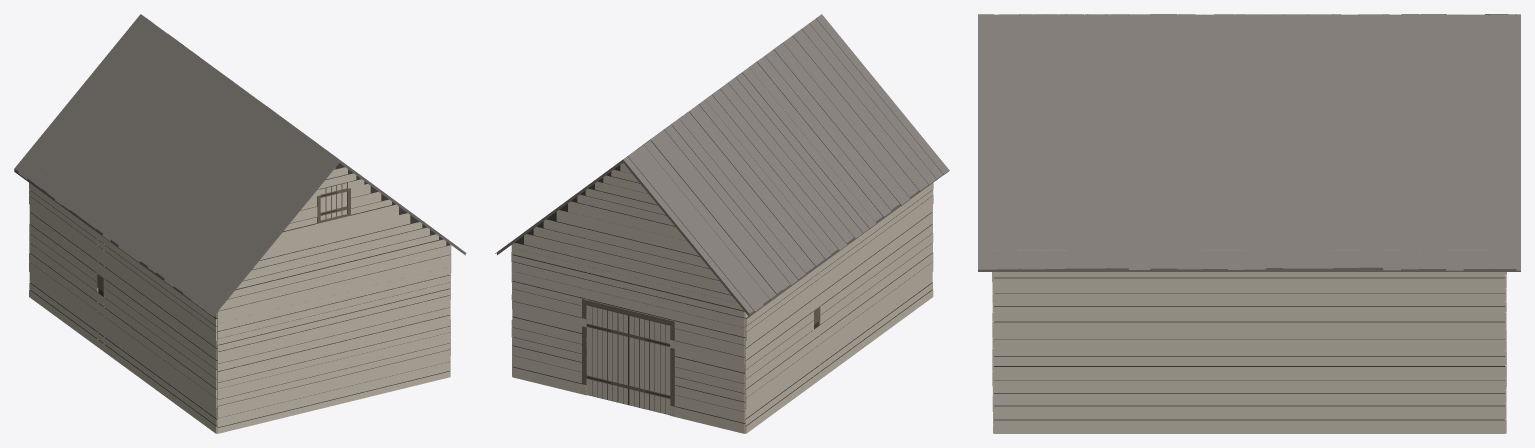
Rendered from recon_1835_north_a2_048__inferred_1835.glb.
The picture shows the model from 3 angles, left to right: view 1: azimuth 30°, elevation 25°; view 2: azimuth 150°, elevation 25°; view 3: azimuth 270°, elevation 25°; orthographic projection. The views are drawn at different scales.
Parts seen in each view (by area): view 1: recon_1835_north_a2_048__inferred_1835; view 2: recon_1835_north_a2_048__inferred_1835; view 3: recon_1835_north_a2_048__inferred_1835.
Boxes of the visible parts, x1,y1,x2,y2 form: recon_1835_north_a2_048__inferred_1835: (14, 14, 466, 433); recon_1835_north_a2_048__inferred_1835: (495, 14, 949, 433); recon_1835_north_a2_048__inferred_1835: (978, 14, 1520, 433).
Size of the model in its own units: 8.86 by 8.3 by 11.94.
